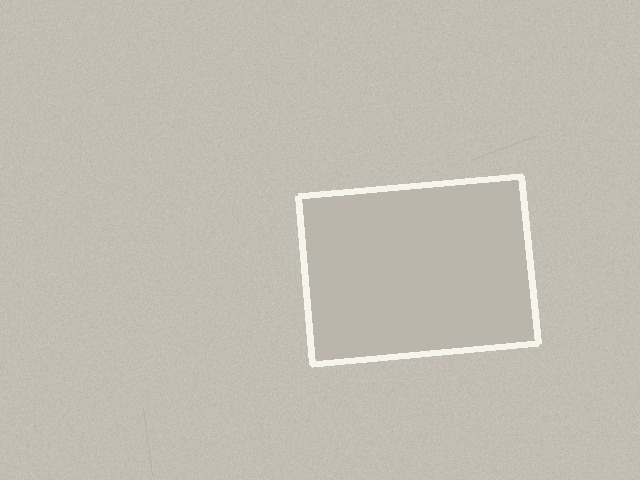parking_area: (298, 176, 538, 364)
